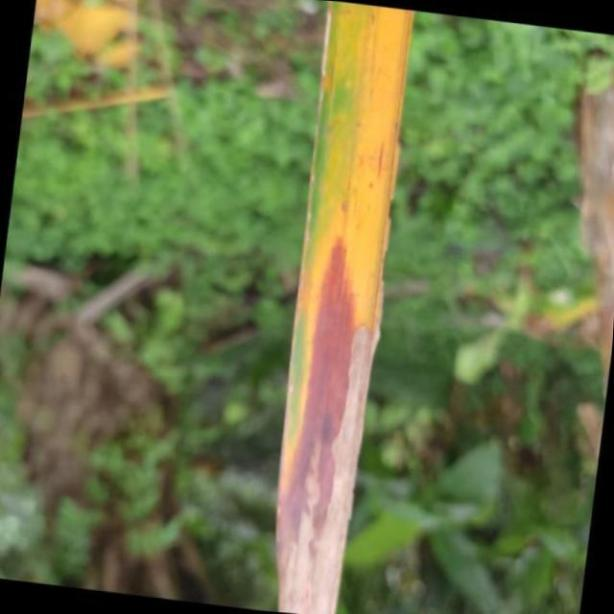Megnesium: (275, 0, 407, 612)
